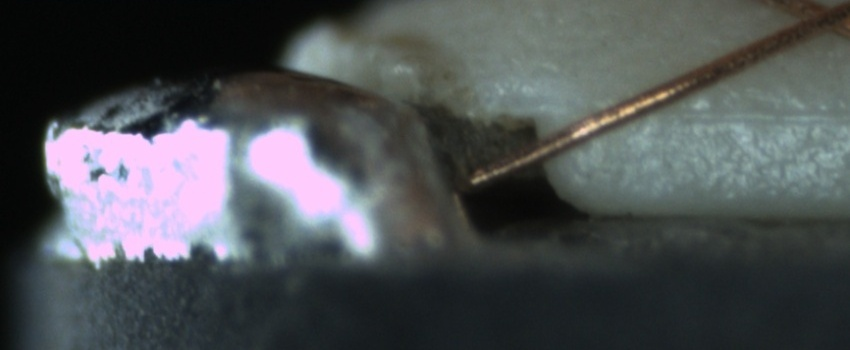CL: (772, 0, 847, 44)
DL: (634, 83, 850, 145)
